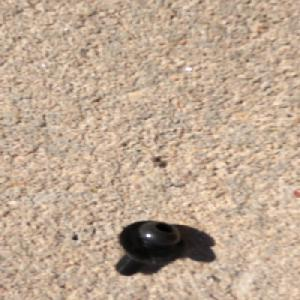BoltWasher: (113, 219, 188, 276)
